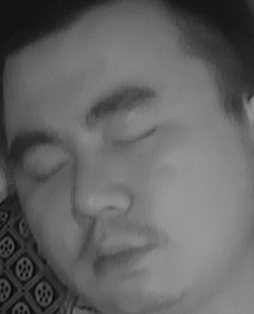blink: (111, 123, 157, 159), (25, 152, 69, 187)
mouth: (78, 225, 163, 283)
